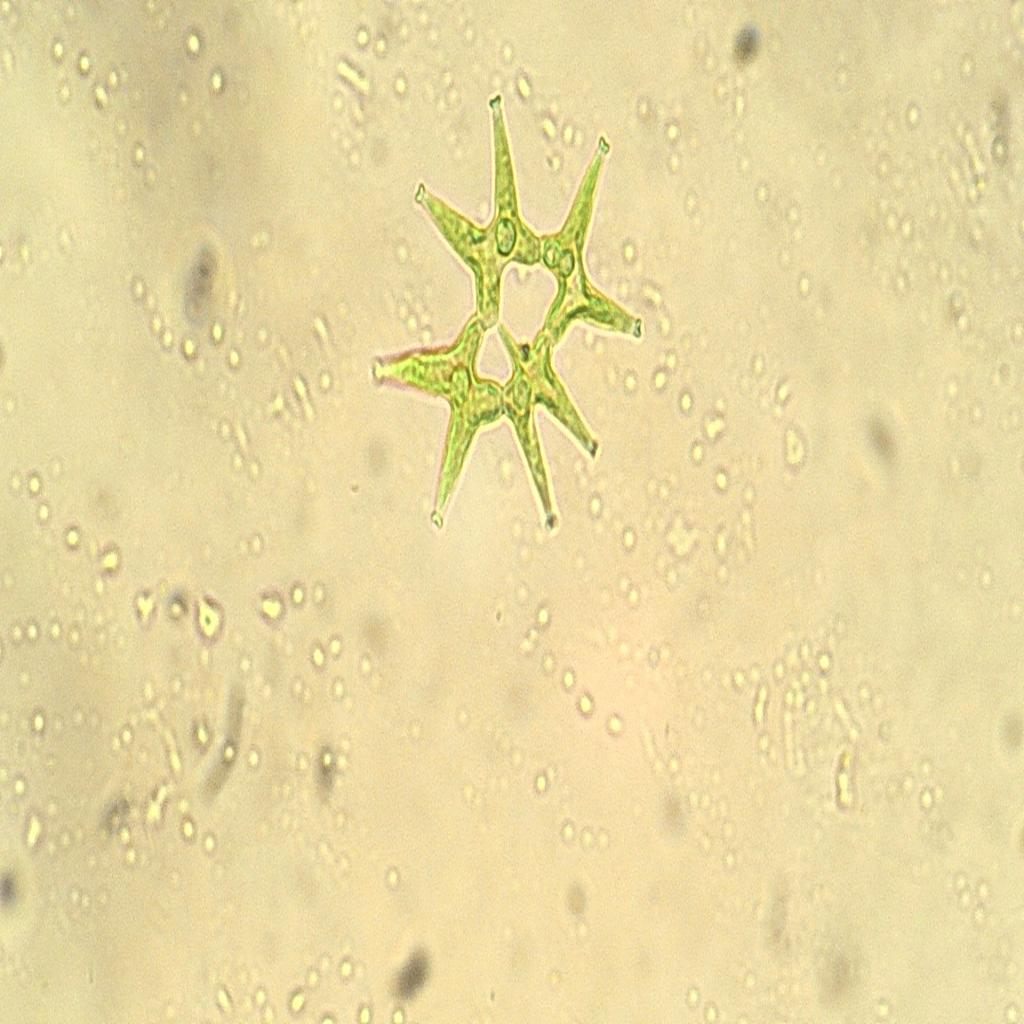Pediastrum_75FO: (364, 71, 651, 564)
